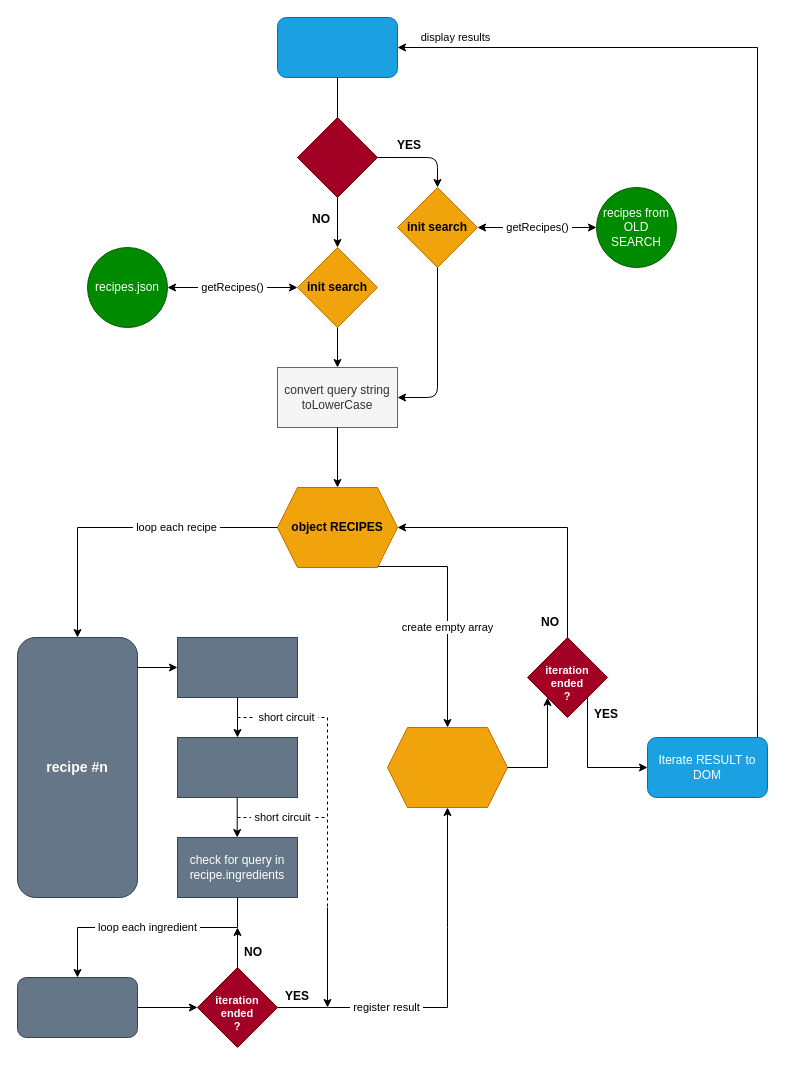
This 785x1065 diagram has some shape labels left out. Here are the shapes that lost their labels. From the top down, the centre of each, then its label:
At pixel 337 47: "User enter search word (3 letters min)".
At pixel 337 157: "2nd increment search ?".
At pixel 237 667: "check for query in recipe.name".
At pixel 237 767: "check for query in recipe.description".
At pixel 447 767: "RESULT array".
At pixel 77 1007: "ingredient #n".
